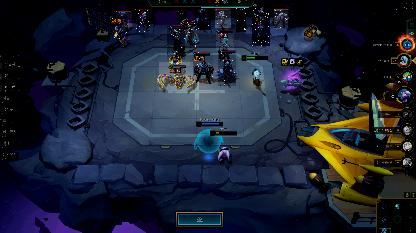1_lillia: (177, 9, 187, 21)
1_lux: (136, 8, 150, 32), (215, 8, 231, 28)
1_sylas: (274, 9, 288, 29)
1_varus: (116, 11, 132, 27)
2_lillia: (167, 26, 185, 60), (236, 8, 246, 32)
2_lux: (252, 12, 270, 46), (252, 4, 270, 12)
2_nidalee: (213, 0, 231, 20), (216, 30, 234, 50)
2_sylas: (193, 52, 213, 82)
2_taliyah: (181, 22, 199, 48)
2_varus: (110, 16, 128, 48)
2_vladimir: (218, 50, 236, 86), (195, 10, 211, 30)
3_skarner: (159, 62, 193, 90)
